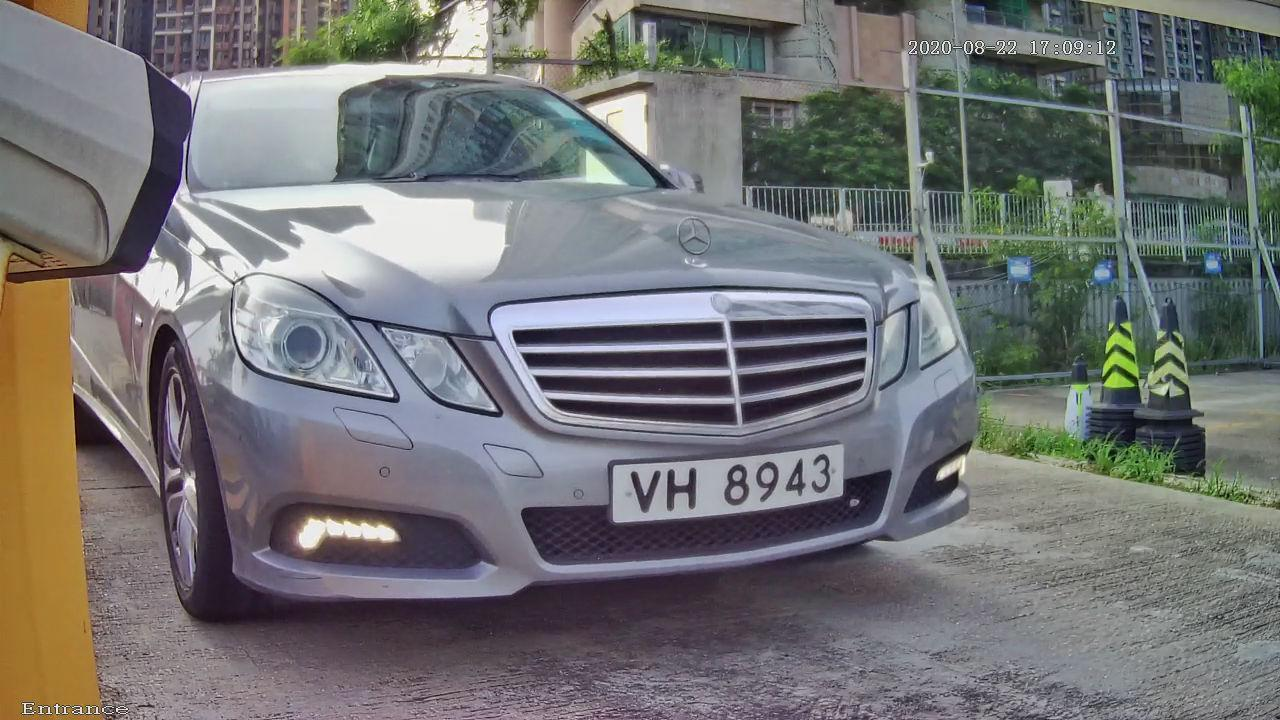Car: (63, 26, 1058, 637)
License Plate: (559, 419, 902, 551)
